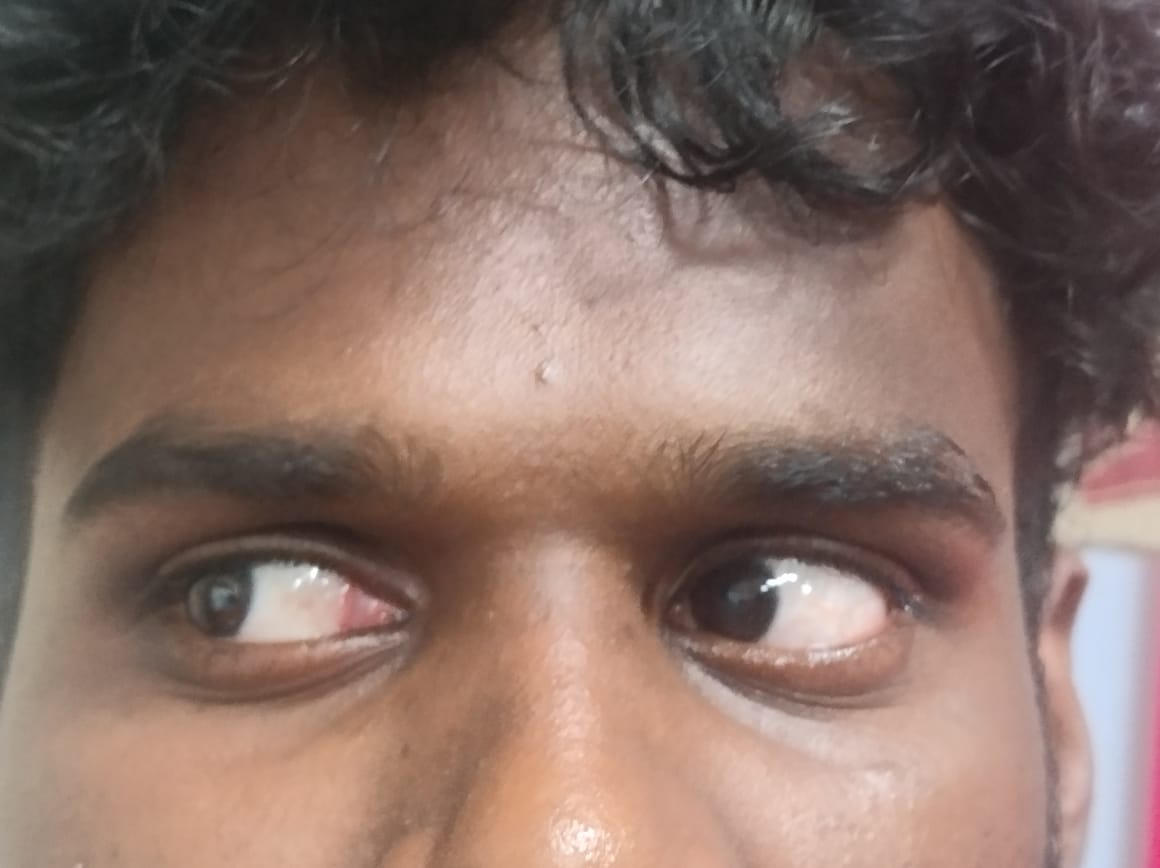EYE RIGHT: (588, 357, 1044, 745), (18, 358, 465, 738)
